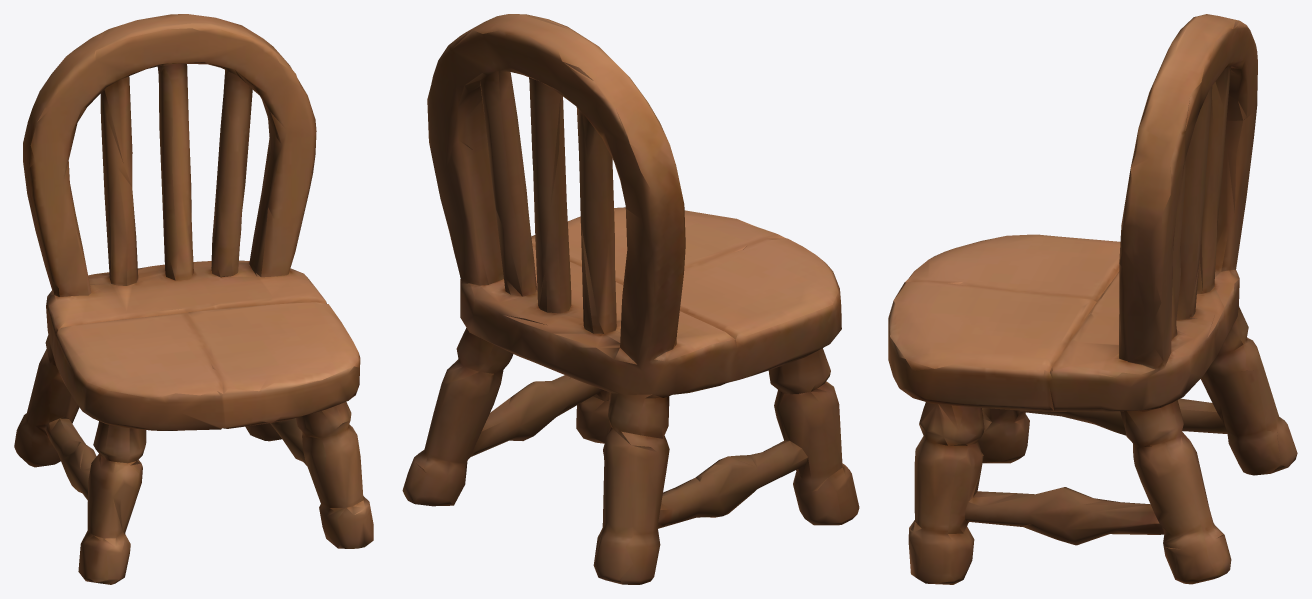
File: chair04.glb
3 views of the same model, side by side, from view 1: azimuth 30°, elevation 25°; view 2: azimuth 150°, elevation 25°; view 3: azimuth 270°, elevation 25° (orthographic). The views are drawn at different scales.
Size of the model in its own units: 0.1746 by 0.2531 by 0.1843.
1 material, 1 textured.
